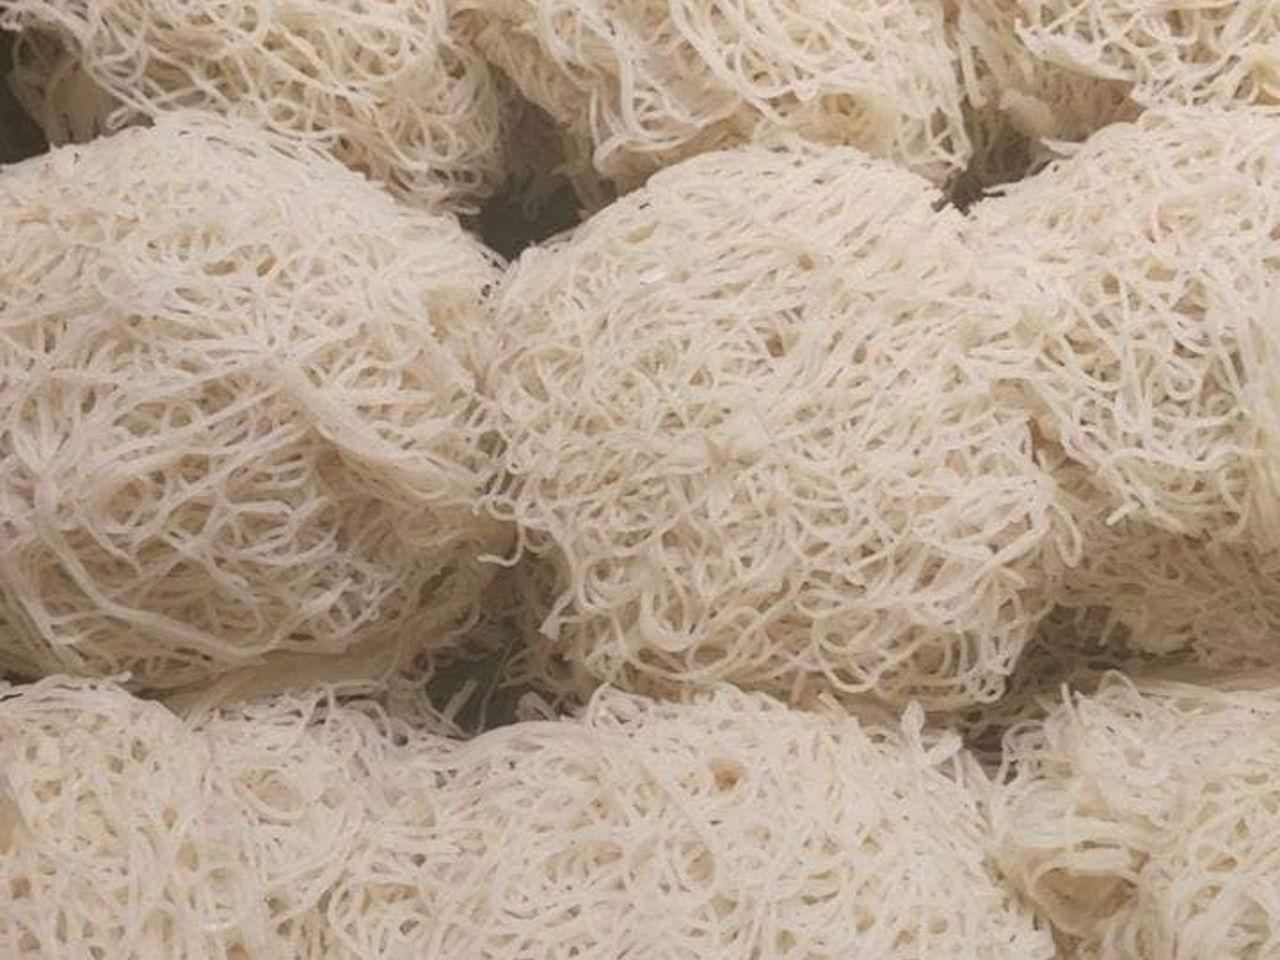String Hoppers: (10, 20, 1262, 946)
